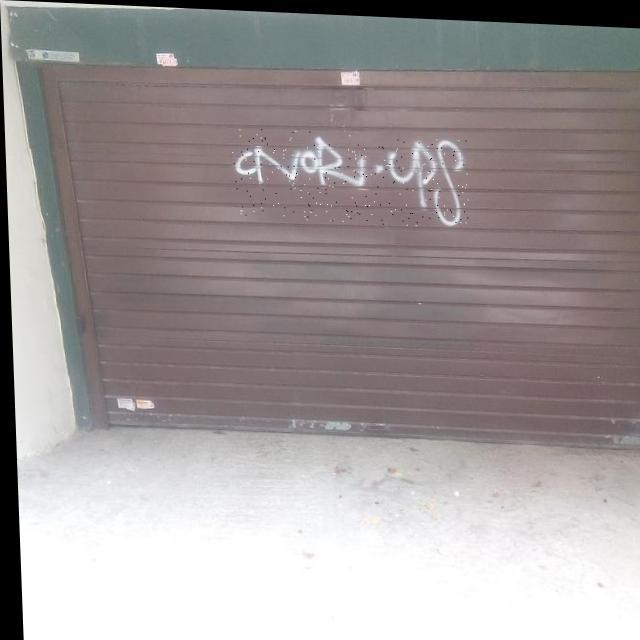-: (230, 126, 468, 224)
